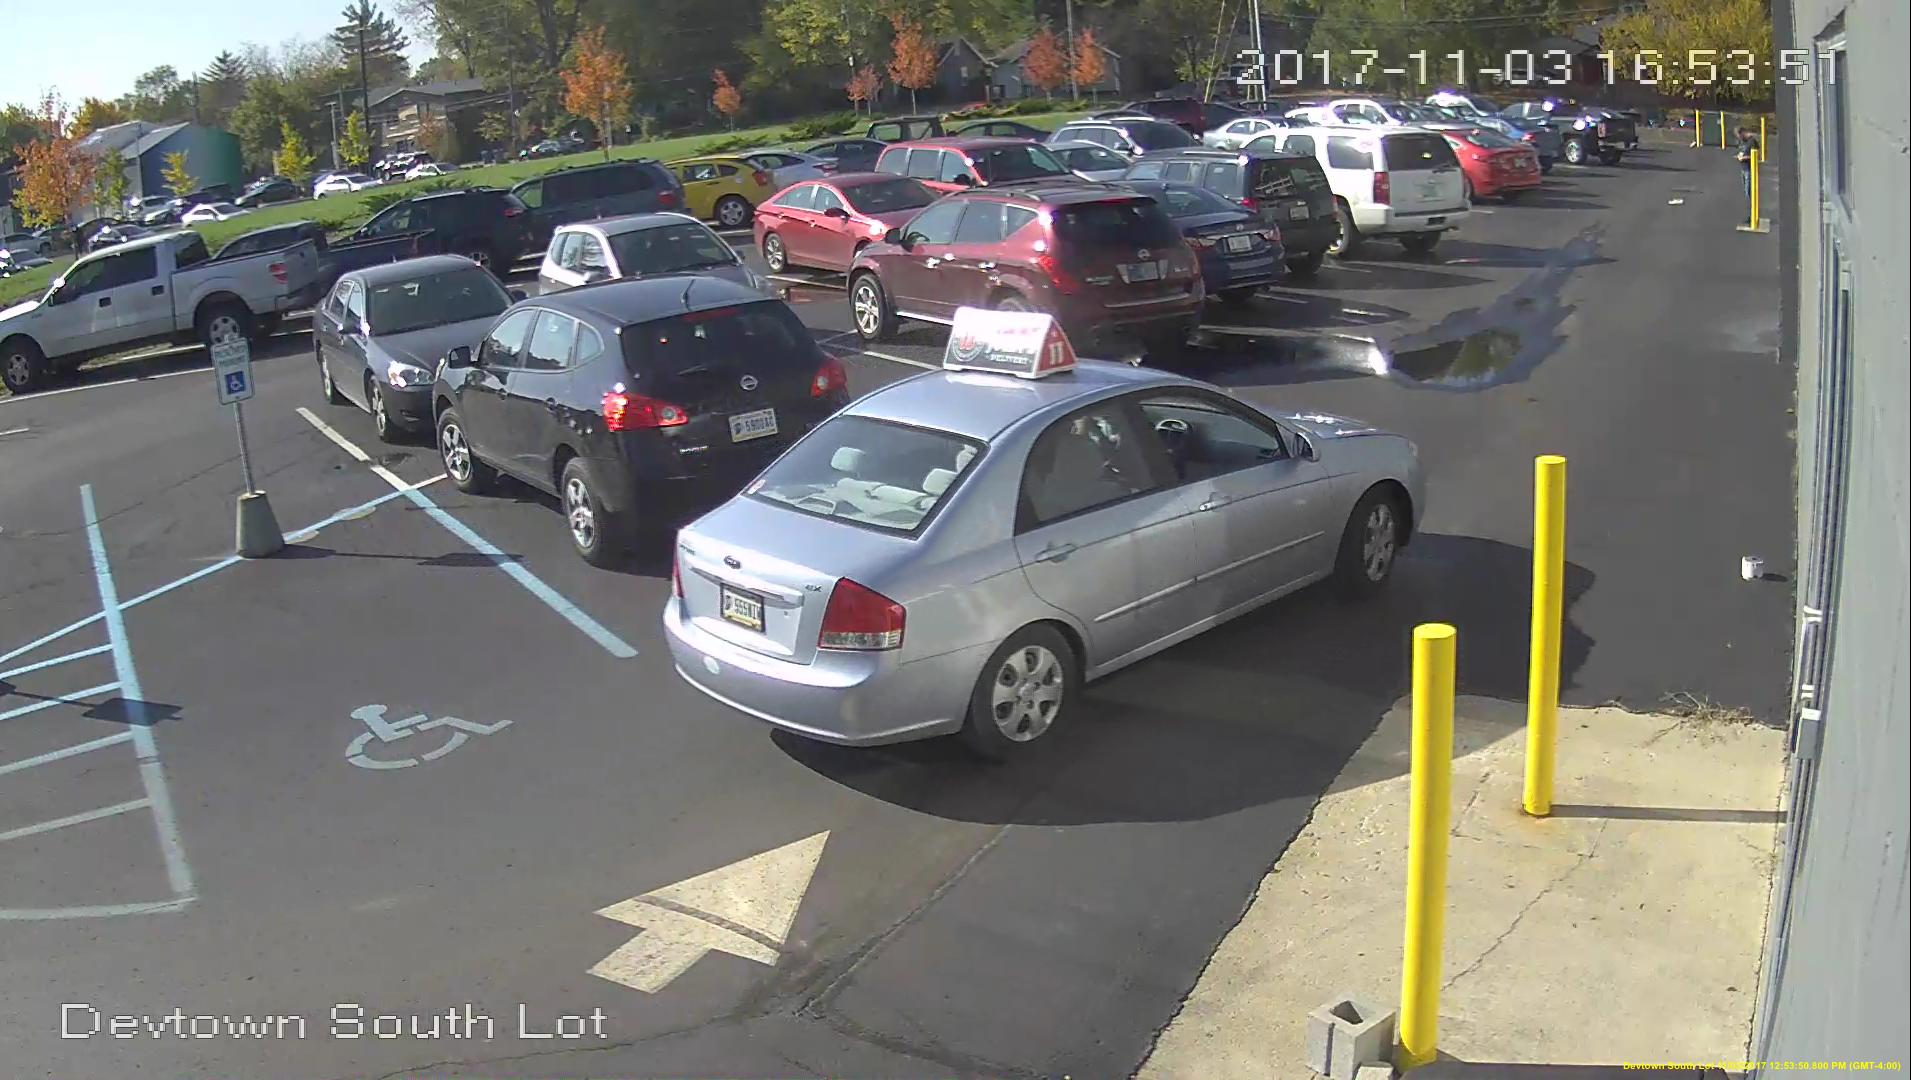jimmy_johns: (932, 302, 1081, 377)
